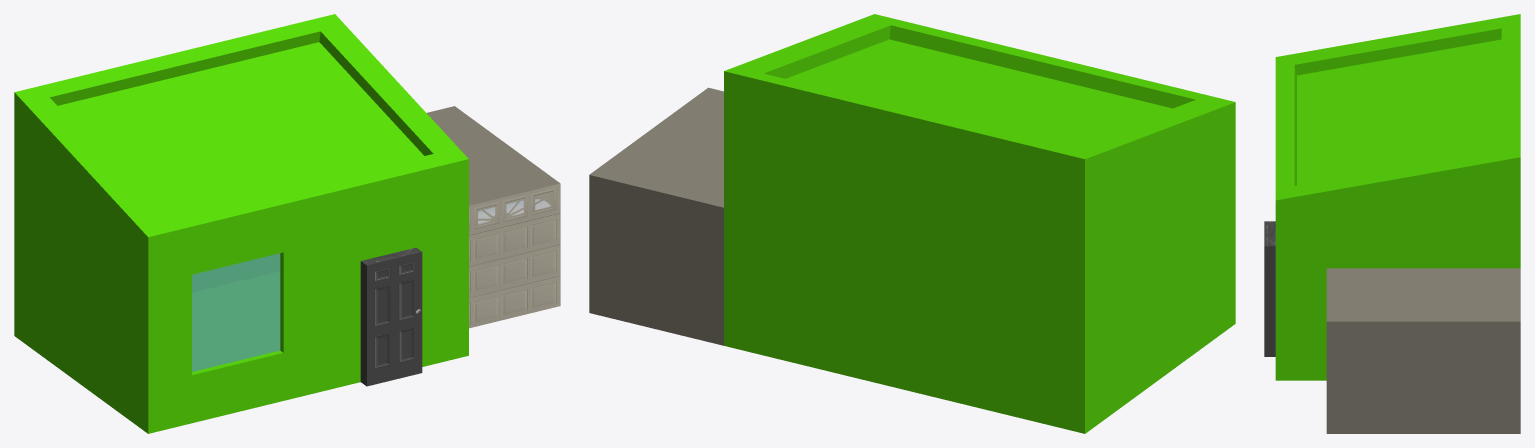
File: house3.fbx
The picture shows the model from 3 angles, left to right: view 1: azimuth 30°, elevation 25°; view 2: azimuth 150°, elevation 25°; view 3: azimuth 270°, elevation 25°; orthographic projection. The views are drawn at different scales.
Parts seen in each view (by area): view 1: house3; view 2: house3; view 3: house3.
Part boxes in pixels (x1=…): house3: x1=14, y1=14, x2=560, y2=433; house3: x1=589, y1=14, x2=1235, y2=433; house3: x1=1264, y1=14, x2=1520, y2=433.
Bounding box in the file's own units: 38.89 × 20.58 × 21.39.
5 materials, 2 textured.
